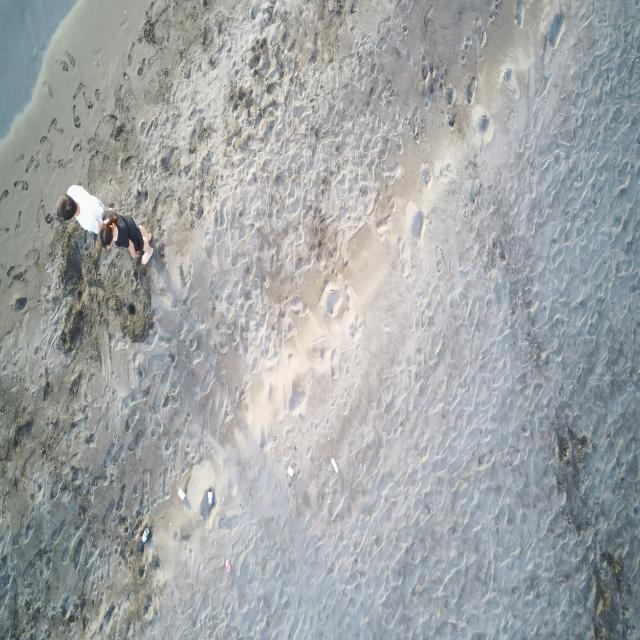tin-and-aluminum-cans: (331, 456, 338, 474), (142, 528, 150, 543), (178, 488, 186, 502), (286, 466, 294, 478), (208, 490, 213, 507), (225, 559, 231, 573)
